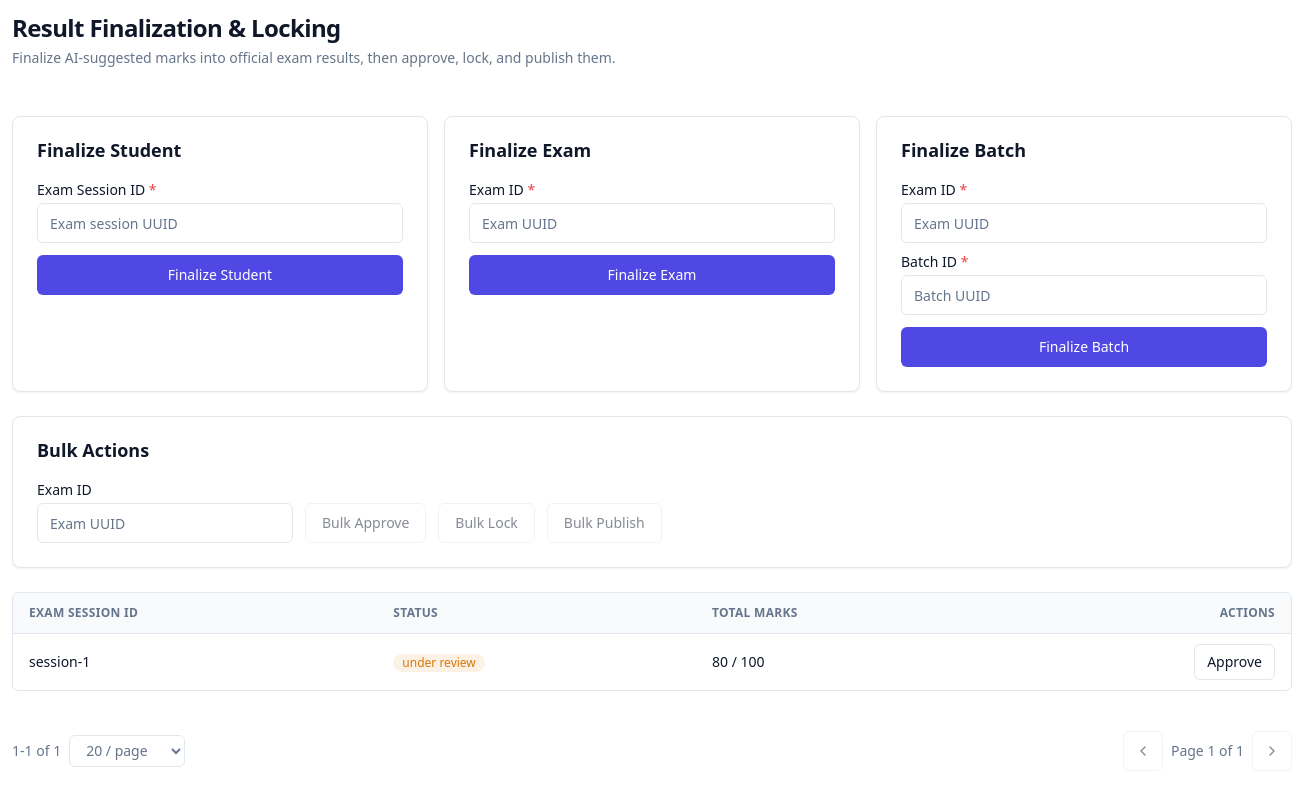
Scenario: ResultFinalizationPage › finalizes a student result with the typed exam session id and shows a success toast
The width and height of the screenshot is (1304, 812).
Expected: the heading "Finalize Student" is shown, left=37, top=138, right=181, bottom=162
Type "session-42" into the field labelled "Exam Session ID *" at (220, 223), box left=37, top=203, right=403, bottom=243
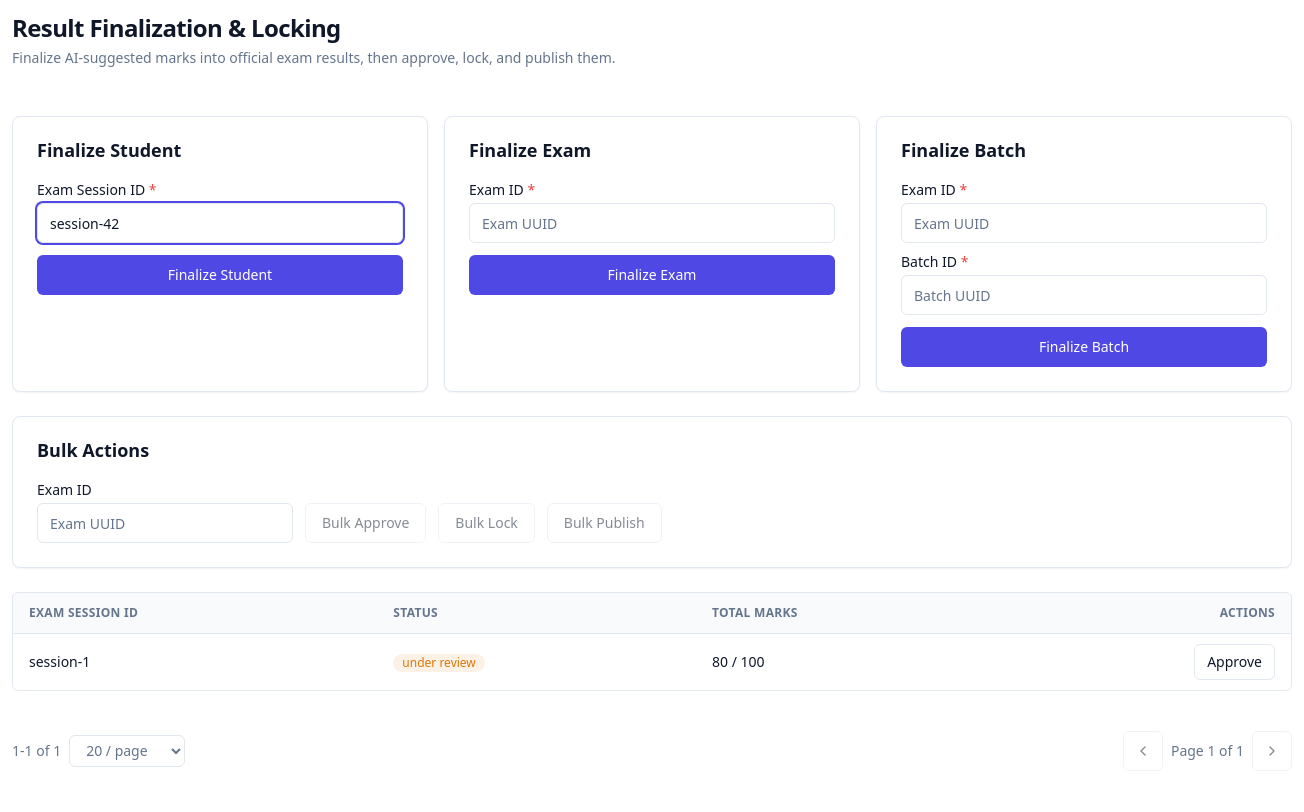
Click the button "Finalize Student" at (220, 275), box left=37, top=255, right=403, bottom=295
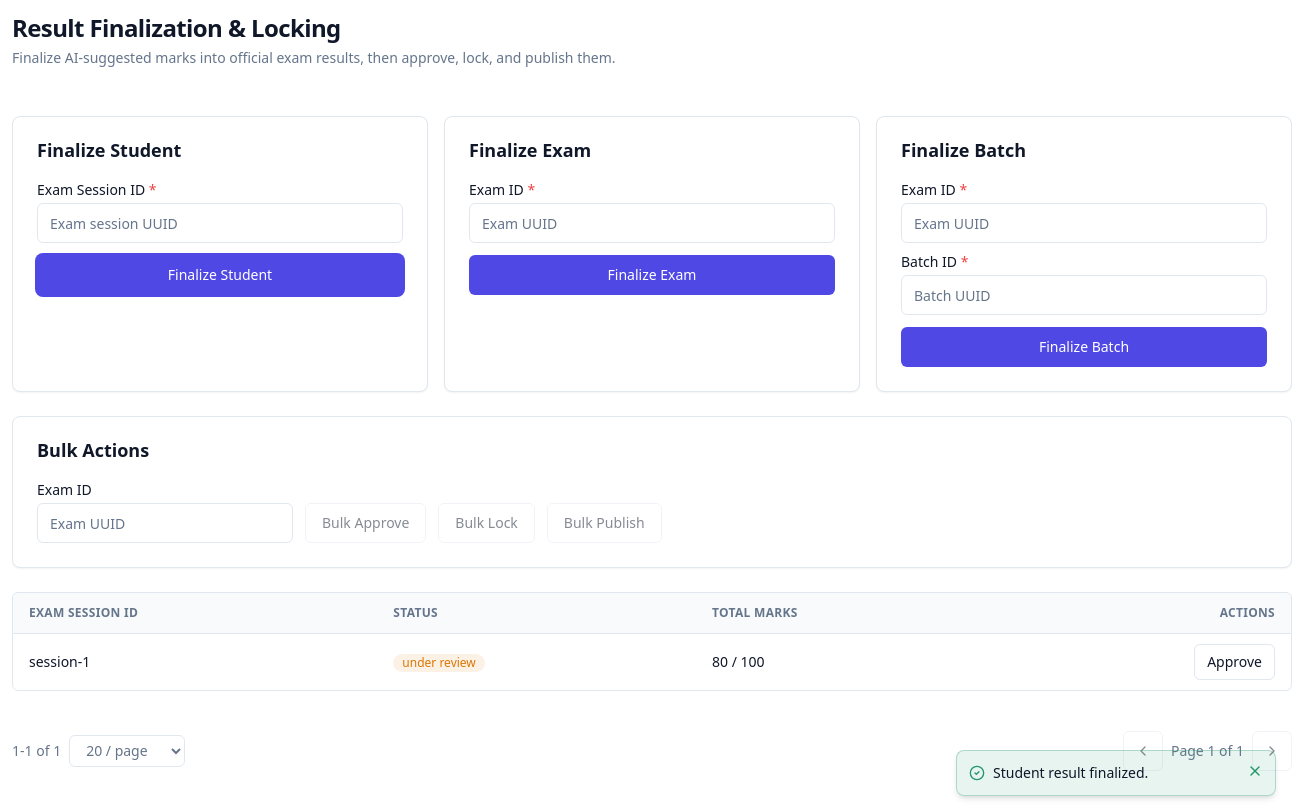
Expected: the text "Student result finalized." is shown, left=993, top=763, right=1148, bottom=782
